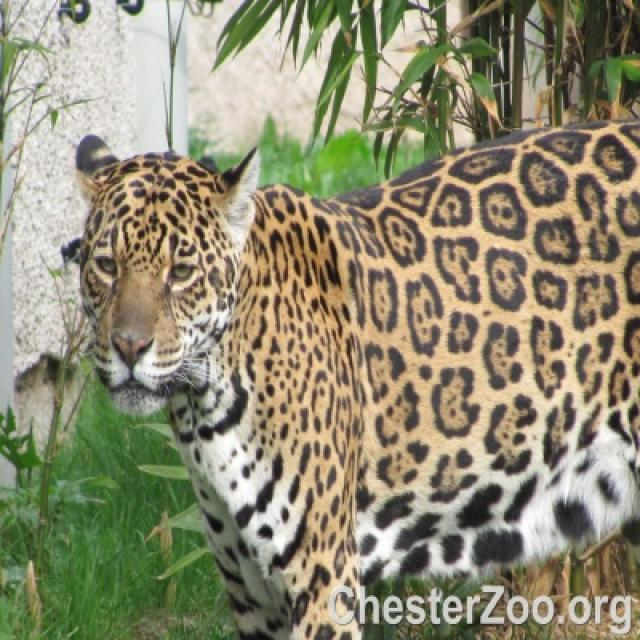Jaguar: (62, 117, 638, 638)
